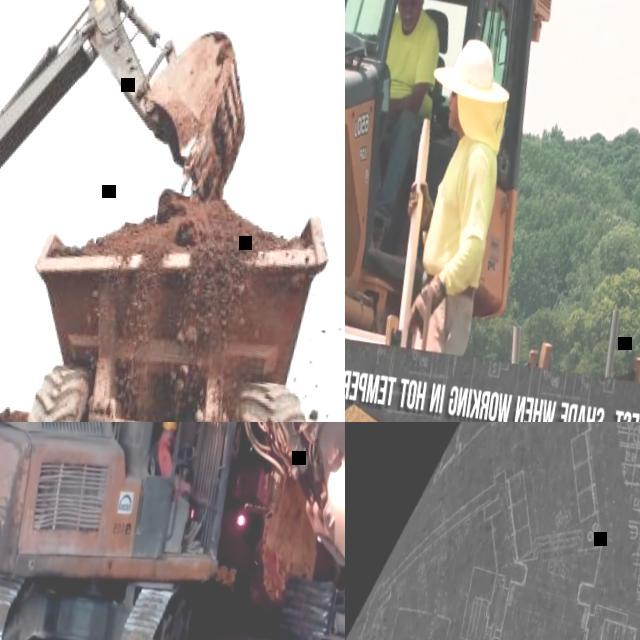Helmet: (164, 421, 182, 434)
Robbery: (401, 34, 514, 373), (383, 4, 437, 254), (153, 423, 214, 520)
